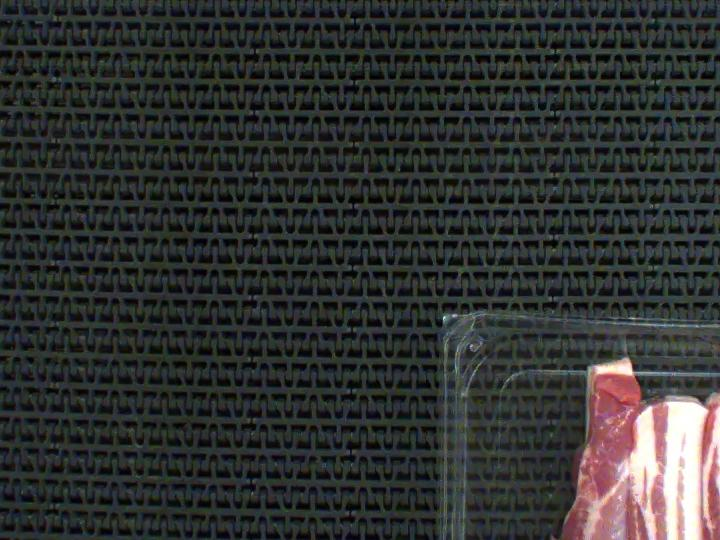twisted-meat: (547, 358, 639, 540)
